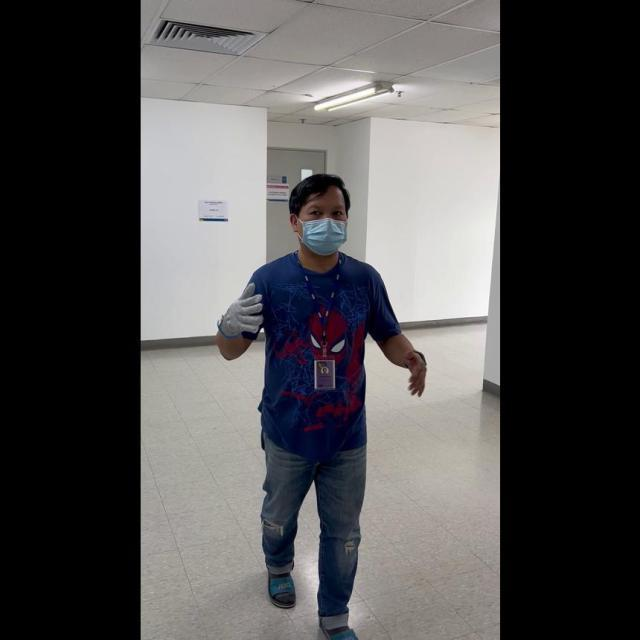bare_hand: (400, 345, 427, 397)
gloved_hand: (216, 280, 265, 342)
